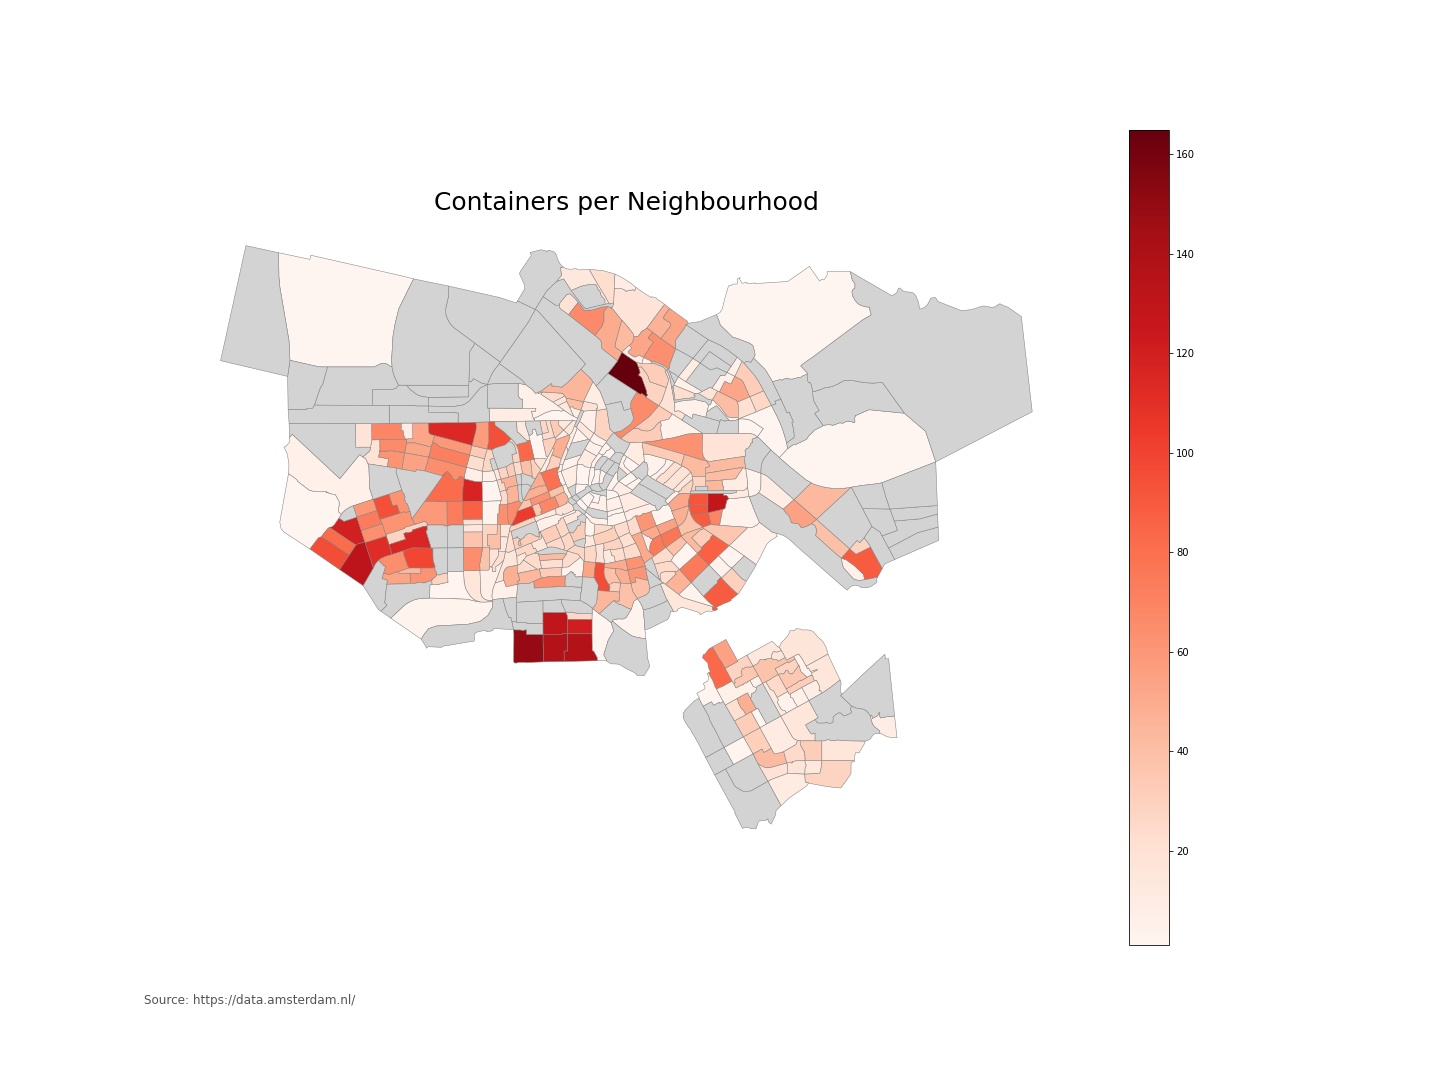

What the dashboard file says about the page in this screenshot:
{"tool":"tableau","page":{"name":"Home","canvas":[1000,1000],"units":"permille","ordinal":0},"visuals":[{"type":"currpage","title":"Dashboard Header","box":[4.6,8.8,169,53.6]},{"type":"worksheet","title":"Dashboard Header","mark":"Automatic","box":[173.6,8.8,821.8,103.7]},{"type":"worksheet","title":"Density Map","mark":"Automatic","box":[4.6,112.5,990.9,878.8]}]}

Visuals, with their boxes on the dashboard's canvas, which has no fixed pixel size, in thousandths of its width and height (x1, y1, x2, y2). These are canvas units, not pixel positions in the 1440x1080 screenshot, which may show the page scaled, cropped or inside an application window:
"Dashboard Header" currpage: left=5, top=9, right=174, bottom=62
"Dashboard Header" worksheet: left=174, top=9, right=995, bottom=112
"Density Map" worksheet: left=5, top=112, right=996, bottom=991
